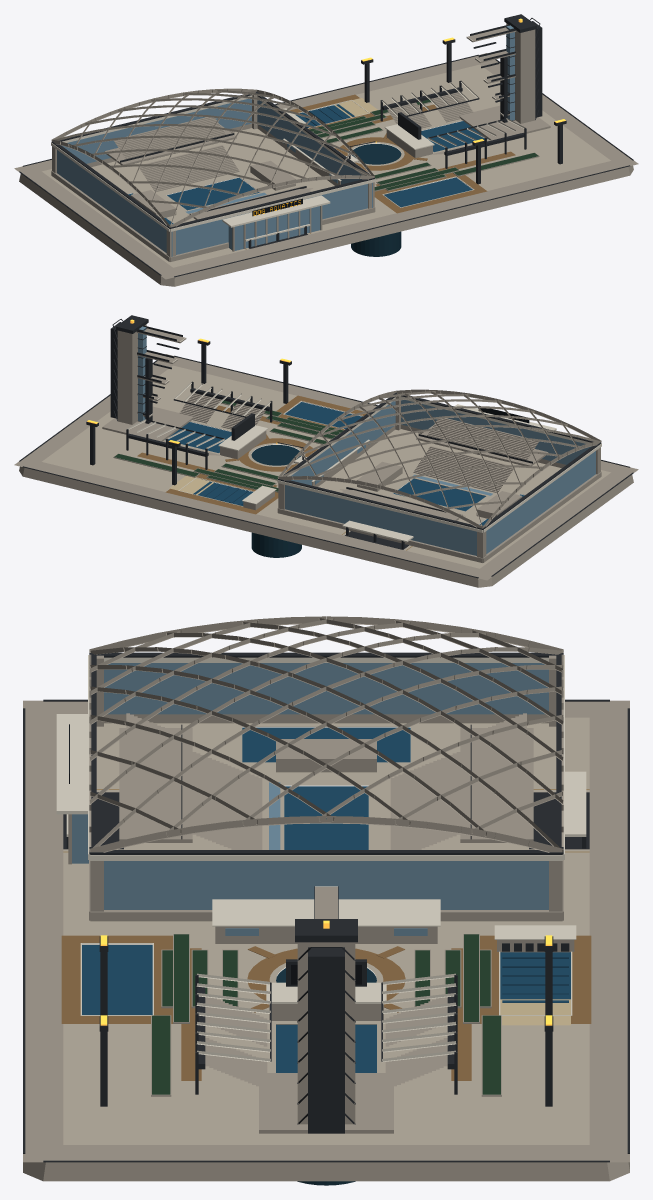
File: dog-aquatics-base.glb
3 views of the same model, one above another, from view 1: azimuth 30°, elevation 25°; view 2: azimuth 150°, elevation 25°; view 3: azimuth 270°, elevation 25° (orthographic). The views are drawn at different scales.
Visible parts, largest first — view 1: AQUATICS_BASE; view 2: AQUATICS_BASE; view 3: AQUATICS_BASE.
Boxes of the visible parts, x1,y1,x2,y2 form: AQUATICS_BASE: (14,14,638,286); AQUATICS_BASE: (14,315,638,587); AQUATICS_BASE: (23,616,629,1185).
Bounding box in the file's own units: 324 × 125 × 180.
